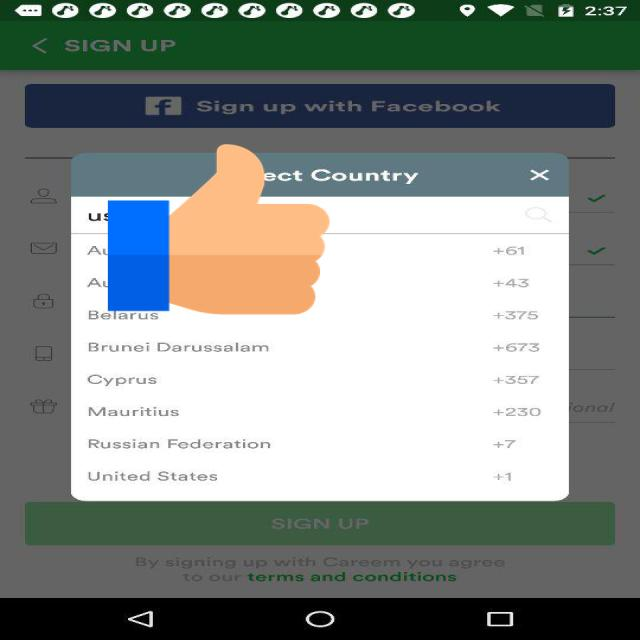privacy zuckering: (108, 140, 329, 319)
